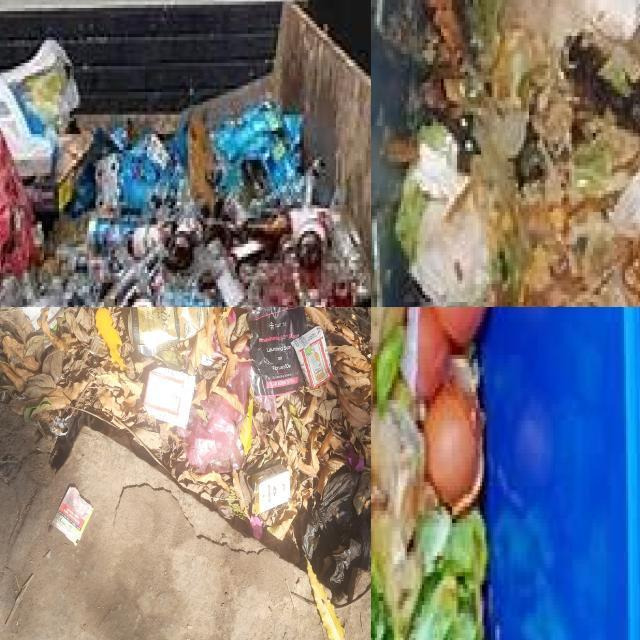Garbage: (0, 2, 371, 307), (0, 307, 371, 594), (391, 0, 640, 307), (371, 307, 495, 640)
Glass_bottle: (0, 102, 371, 307)
Plastic_Bag: (302, 469, 371, 592), (185, 392, 244, 474), (227, 345, 277, 420), (22, 307, 46, 329), (47, 307, 60, 323)
Plastic_wraper: (52, 484, 93, 545)
Tetrapack: (143, 366, 196, 428), (291, 325, 331, 388), (249, 465, 291, 515)
can: (128, 307, 209, 357)
